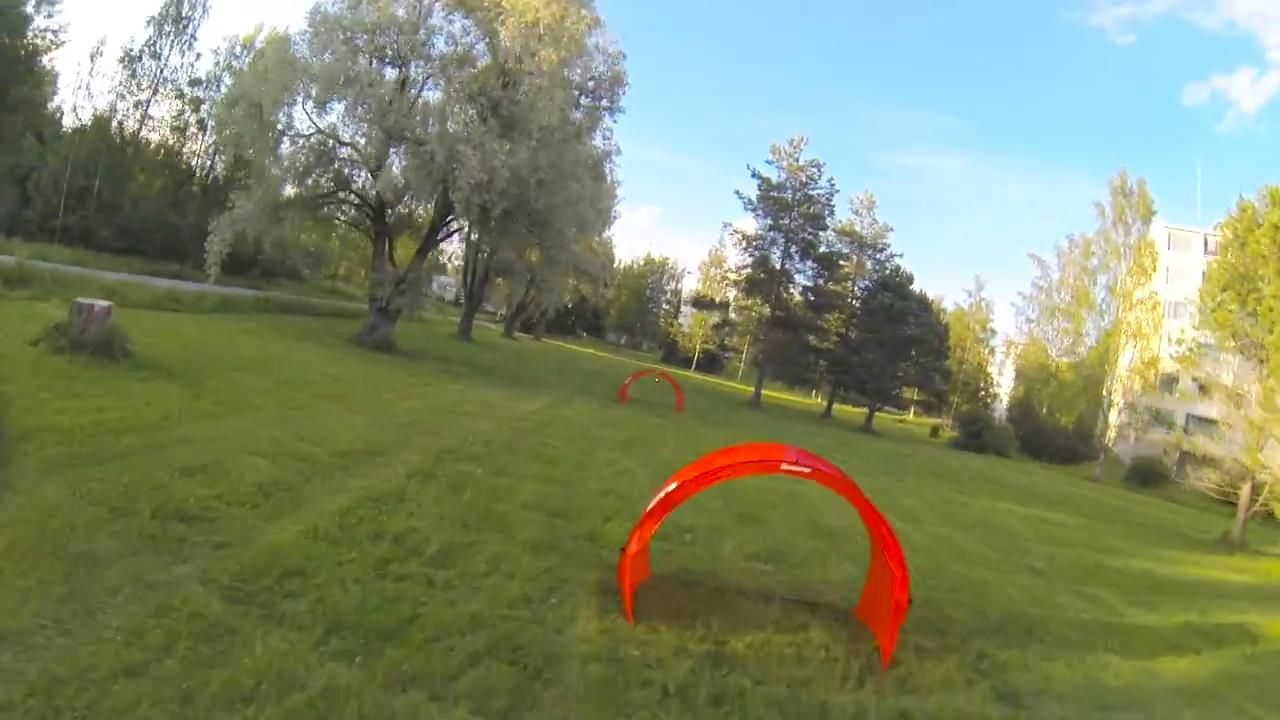gate: (614, 439, 916, 673)
